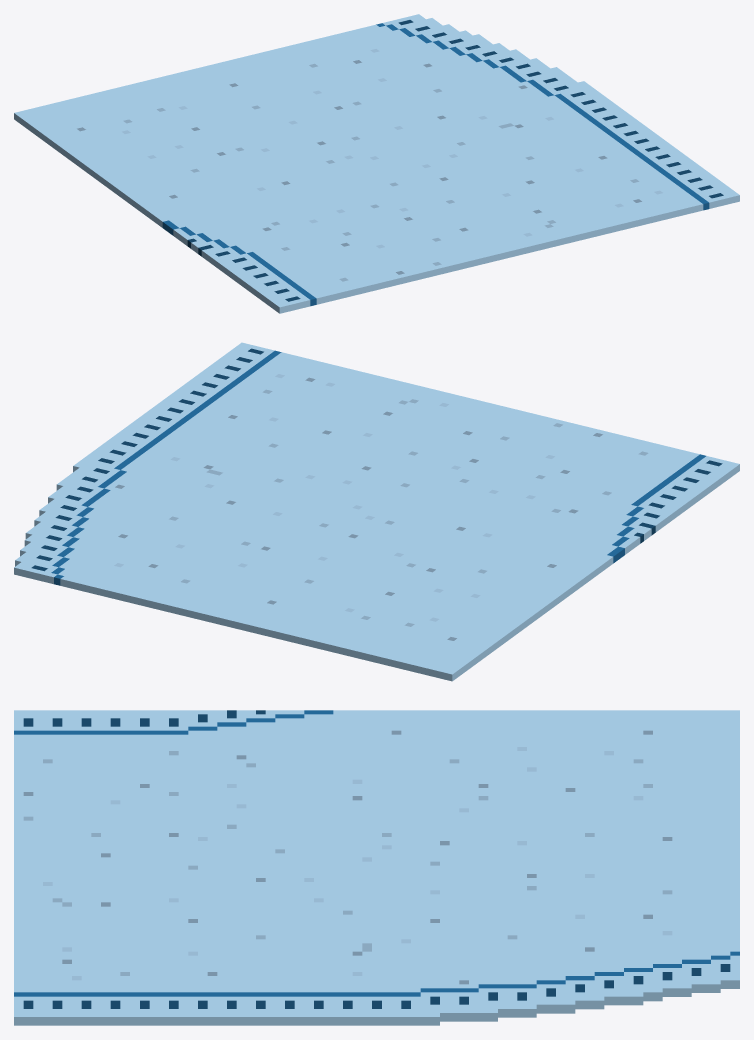
The model's file is 90_Large-2.obj.
The picture shows the model from 3 angles, top to bottom: view 1: azimuth 30°, elevation 25°; view 2: azimuth 150°, elevation 25°; view 3: azimuth 270°, elevation 25°; orthographic projection. The views are drawn at different scales.
Parts seen in each view (by area): view 1: 90_Large-2; view 2: 90_Large-2; view 3: 90_Large-2.
Boxes of the visible parts, x1,y1,x2,y2 form: 90_Large-2: (14, 14, 739, 313); 90_Large-2: (14, 342, 739, 681); 90_Large-2: (14, 710, 739, 1025).
Size of the model in its own units: 75 by 1 by 75.
Materials: 1 (1 with a texture image).
